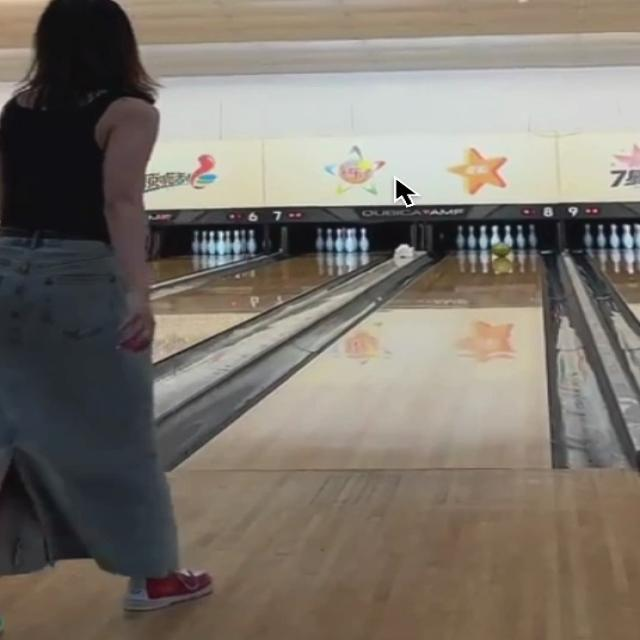alley: (185, 242, 549, 469)
balls: (492, 242, 509, 257)
bottle: (457, 224, 536, 251)
